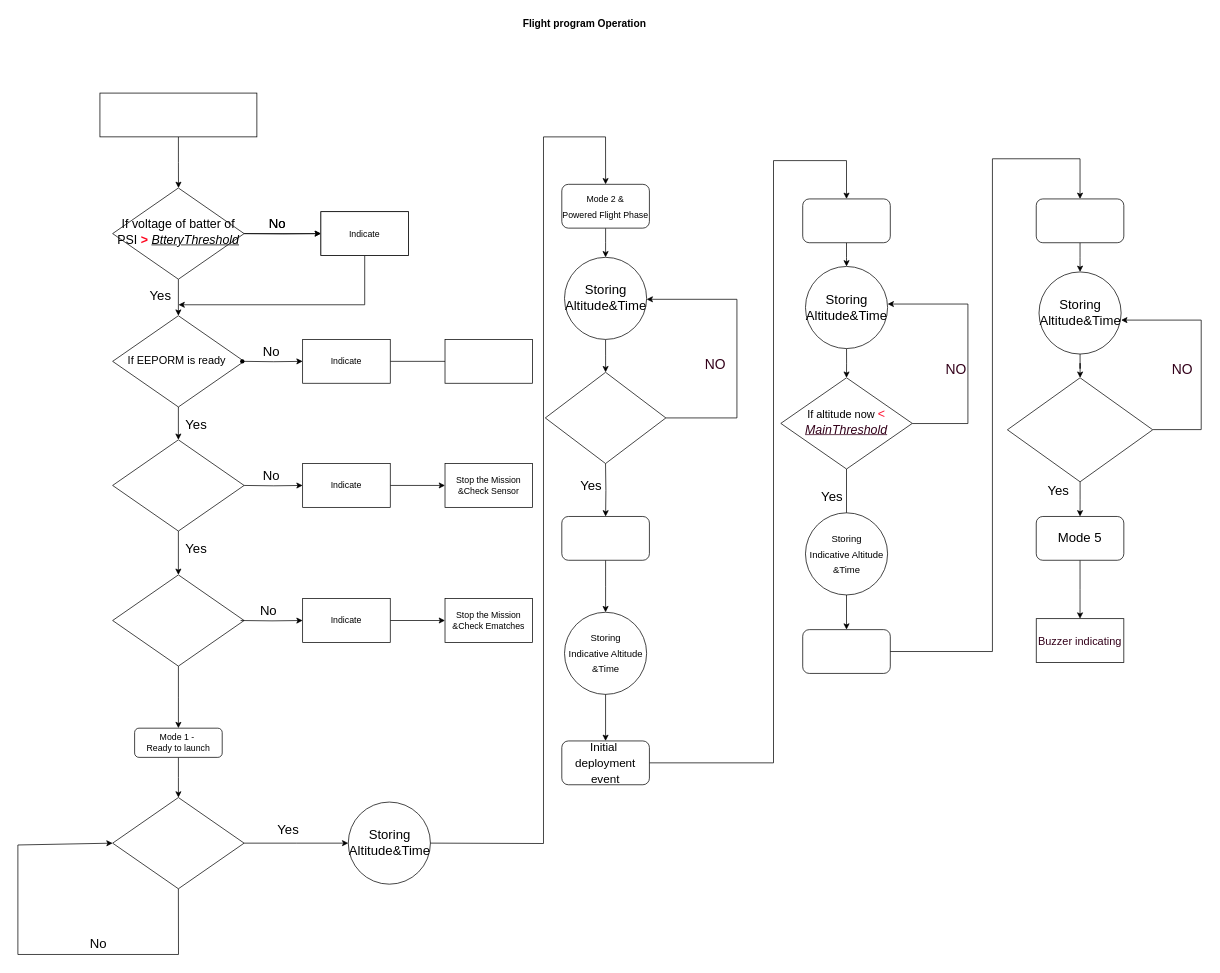
The diagram is 1220 pixels wide and 973 high, and some of its shapes have lost their labels. The centre of each missing label's shape, as x and y in pixels:
"Check status of Battery & Sensor & EEPROM & E-matches" goes at point (178, 114).
"Coasting Flight Phase" goes at point (605, 538).
"If altitude now < LandThreshold OR if EEPROM full loaded" goes at point (1080, 429).
"If apogee detected?" goes at point (605, 418).
"If Ematches are connected" goes at point (178, 620).
"If Sensor is working" goes at point (178, 485).
"IF the altitude now > LaunchThreshold" goes at point (178, 843).
"Main deployment event" goes at point (846, 651).
"Mode 3" goes at point (846, 220).
"Mode 4" goes at point (1080, 220).
"Stop the Mission &Check EEPROM" goes at point (488, 361).
